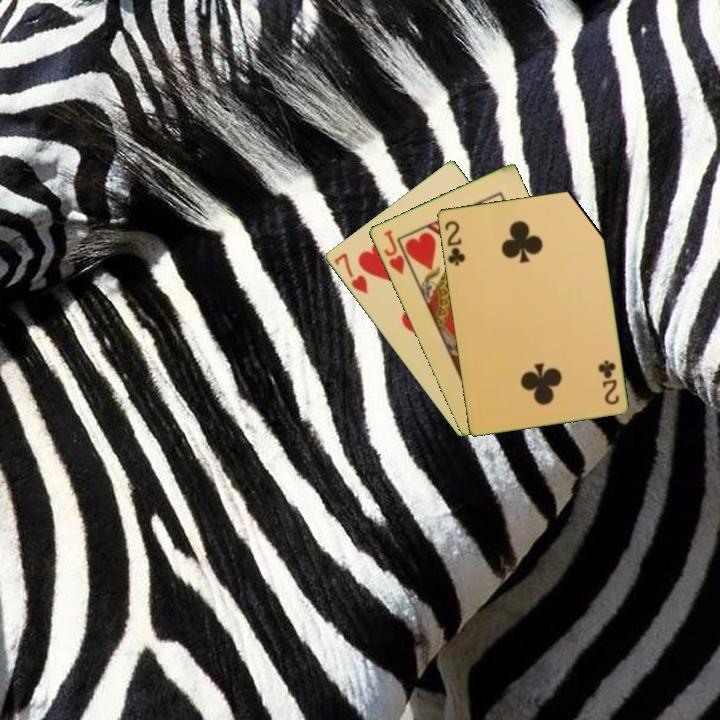2c: (441, 217, 468, 268), (595, 356, 622, 407)
7h: (330, 249, 371, 297)
Jh: (380, 226, 415, 277)
